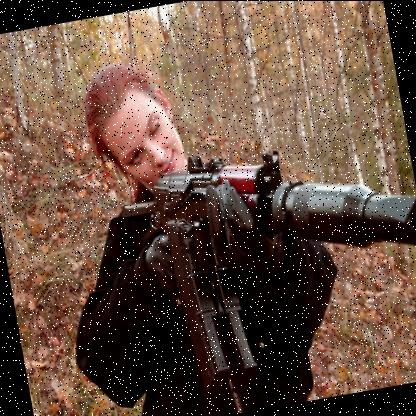rifle: (104, 107, 416, 359)
